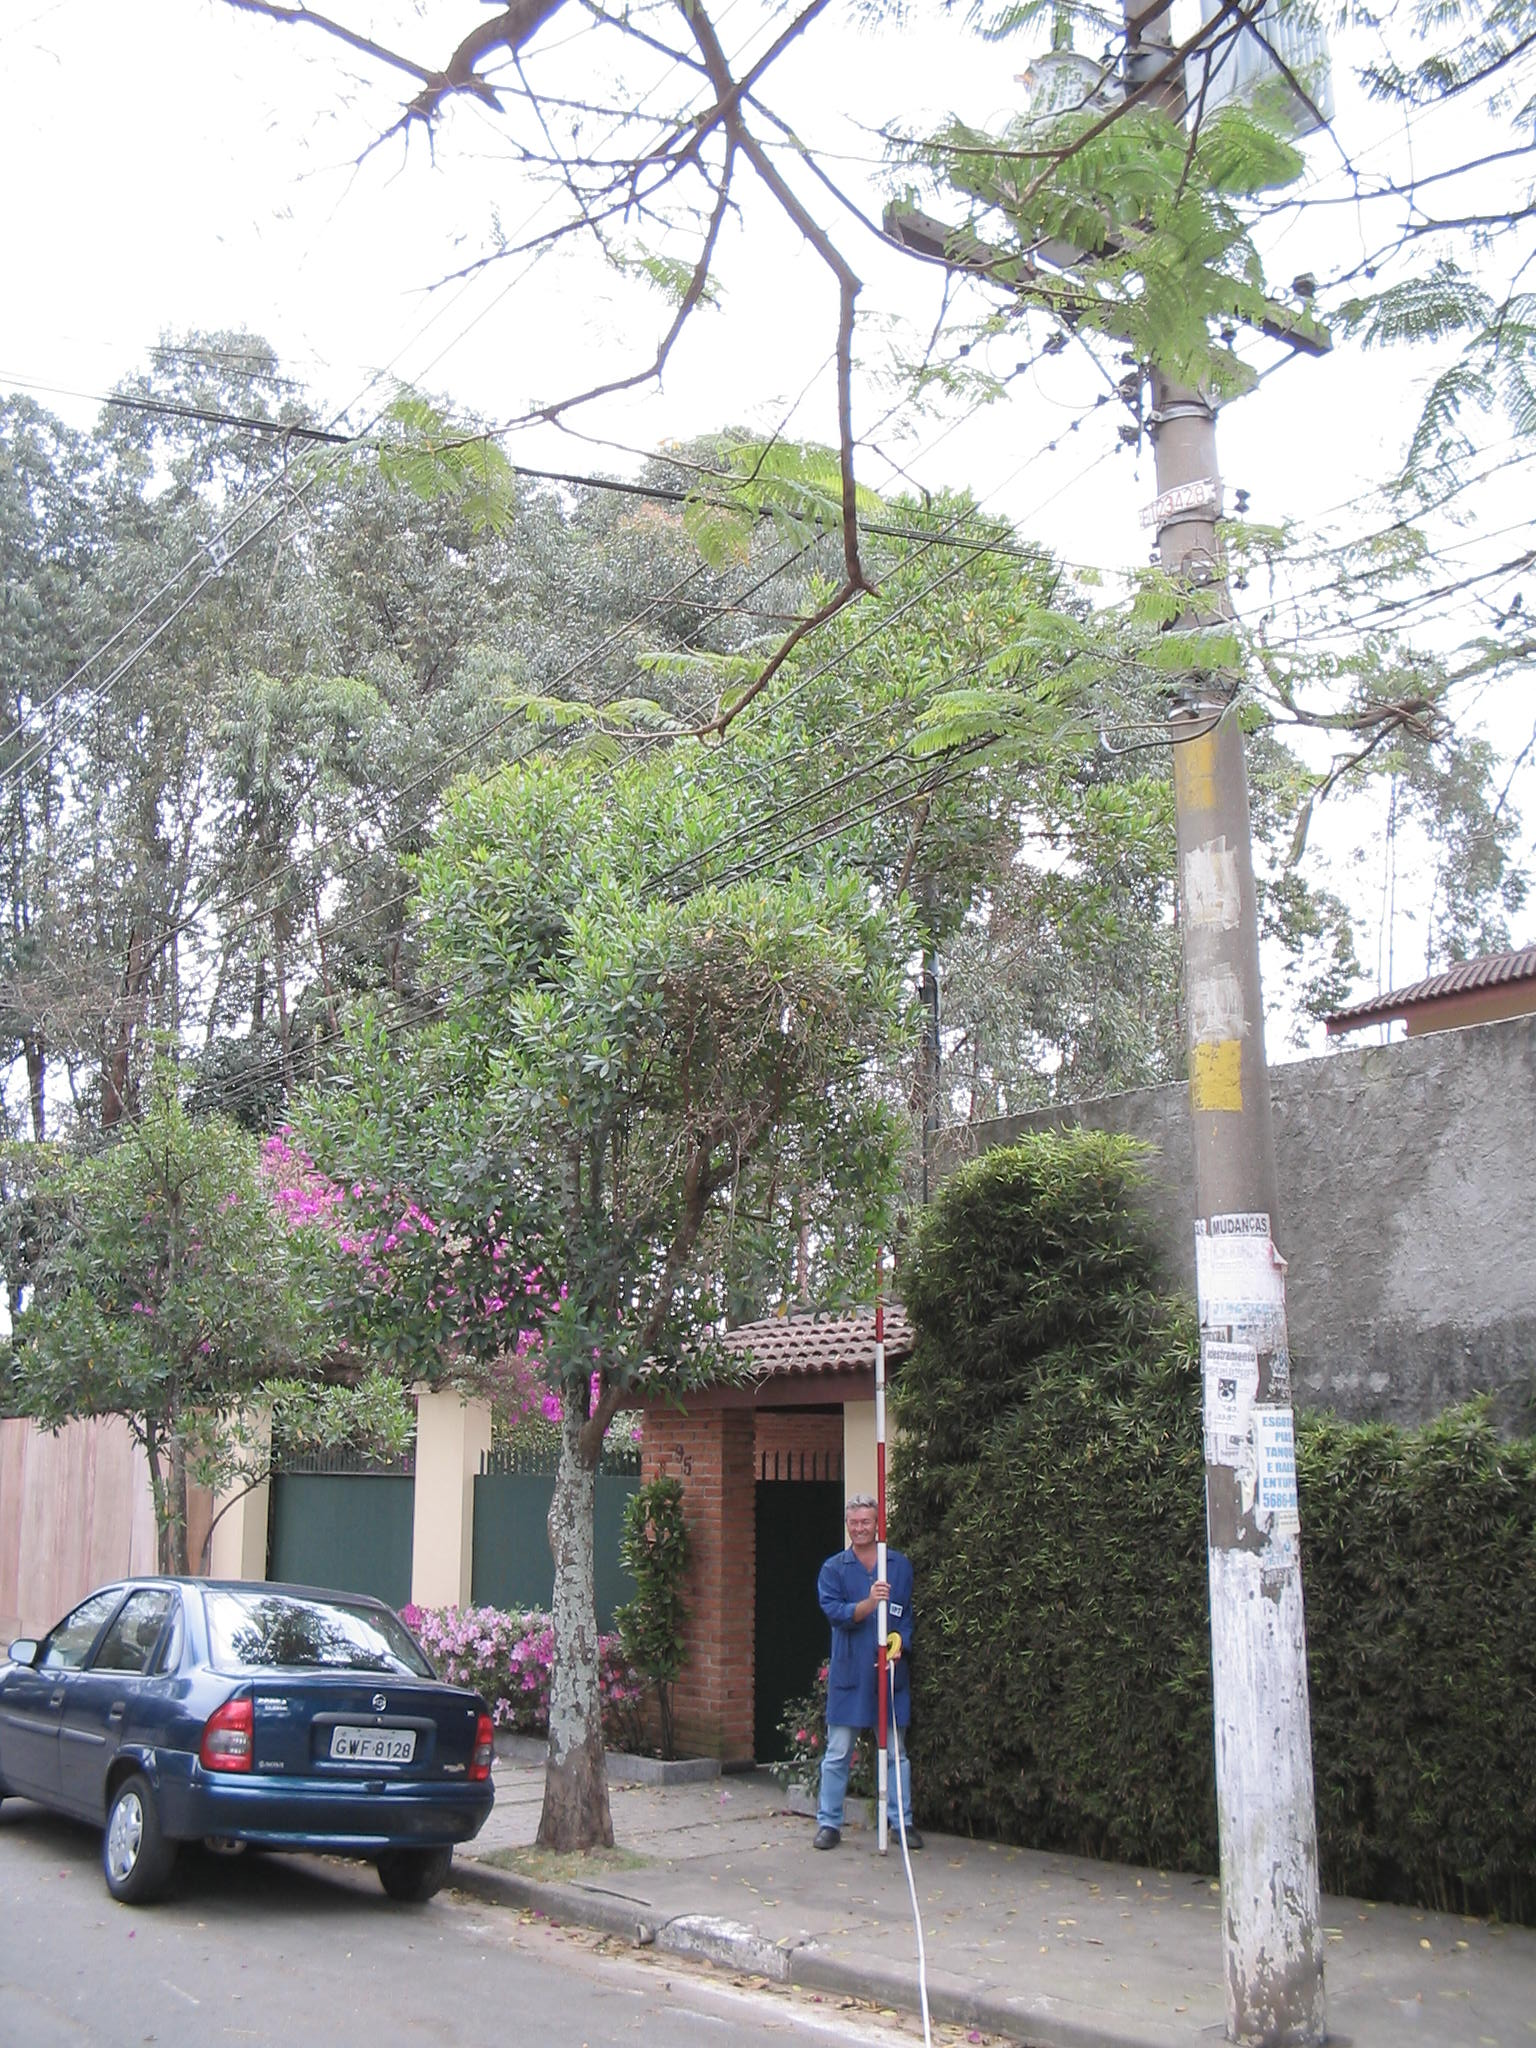crown: (290, 482, 1096, 1437)
stem: (503, 1453, 674, 1853)
stick: (844, 1313, 925, 1858)
tree: (286, 471, 1100, 1858), (19, 1126, 373, 1574)
